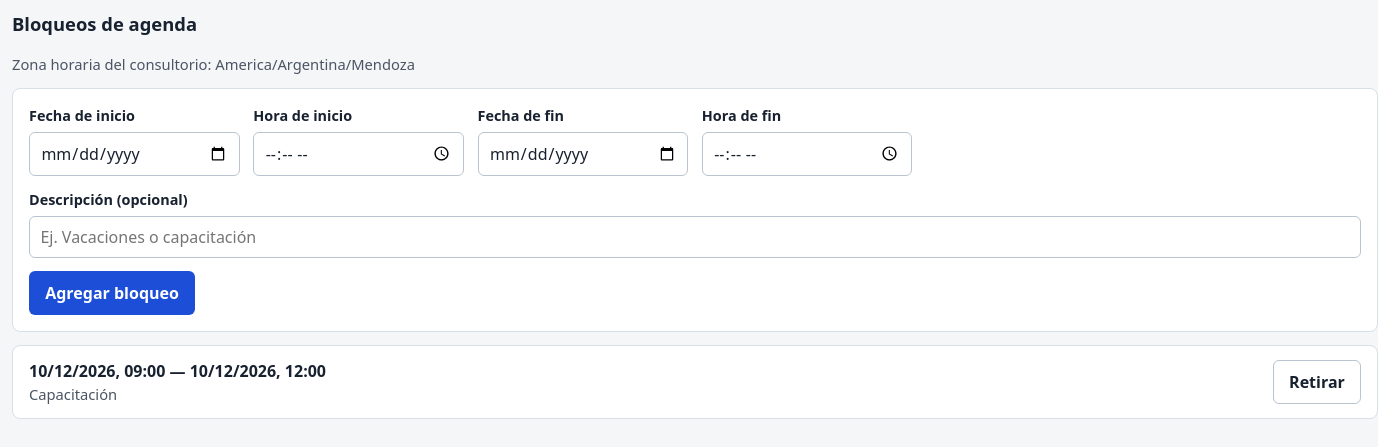
BloqueosSection › retira bloqueo en 204 y resincroniza ante 404 BLOQUEO_NOT_FOUND
Expected: the text "Capacitación" is shown, [29,384,117,404]
What coordinates should you click on to do the following:
click the button "Retirar"
I would click on:
 (1317, 382)
Its box is [1273,360,1361,404].
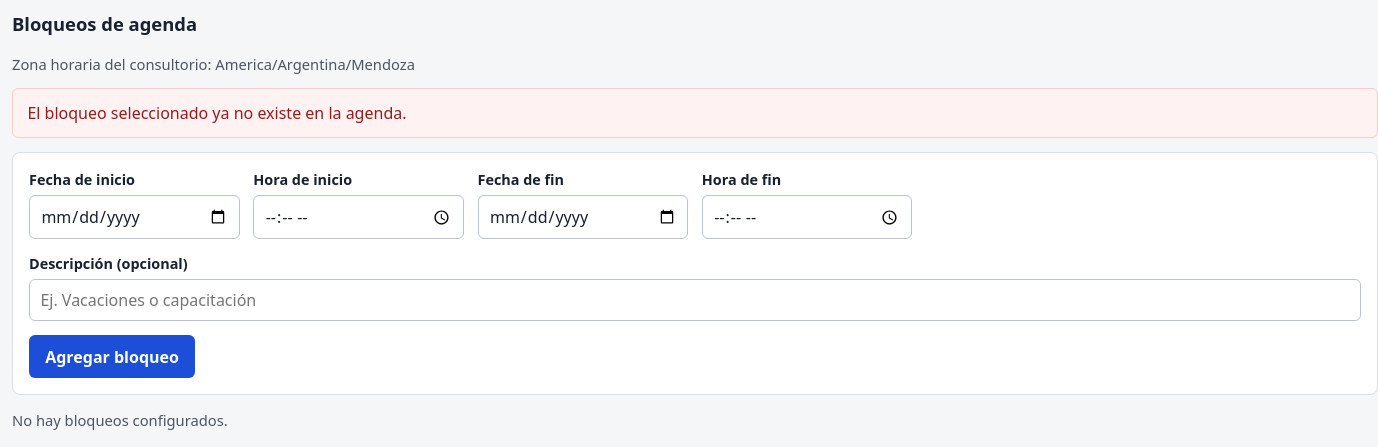
Expected: the message shows "ya no existe", [27,102,406,124]
Expected: the text "No hay bloqueos configurados." is shown, [12,410,228,430]
